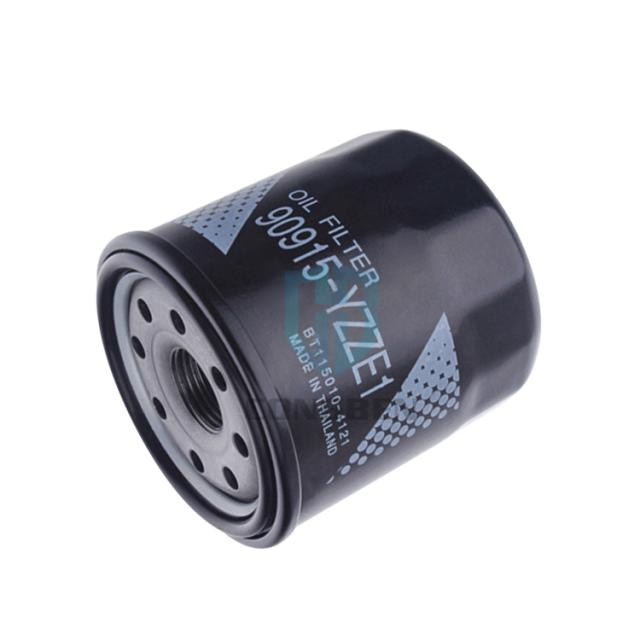oil_filter: (71, 116, 563, 542)
